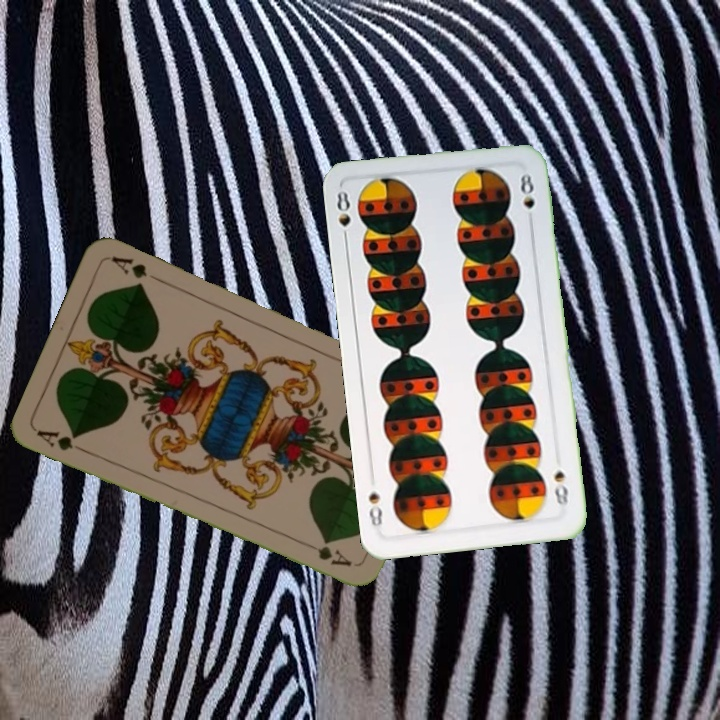GA: (33, 425, 90, 456)
S8: (332, 186, 353, 246), (550, 466, 571, 508)
